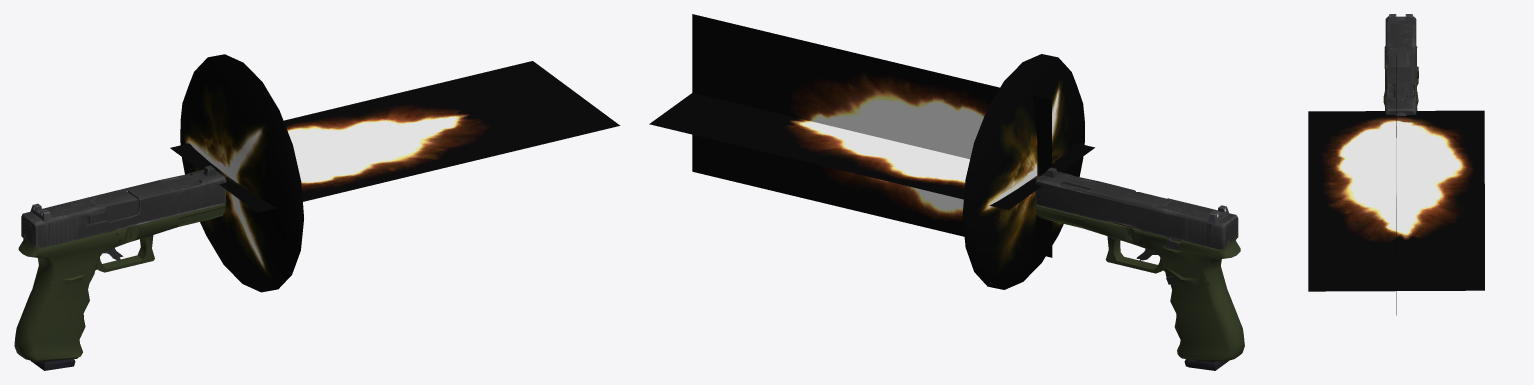
Rendered from Glock_1.glb.
3 renders of one model, left to right at view 1: azimuth 30°, elevation 25°; view 2: azimuth 150°, elevation 25°; view 3: azimuth 270°, elevation 25°, orthographic.
Parts seen in each view (by area): view 1: MuzzleFlash, Glock_Decimated; view 2: MuzzleFlash, Glock_Decimated; view 3: MuzzleFlash, Glock_Decimated.
Boxes of the visible parts, bbox=[...] form: MuzzleFlash: bbox=[170, 54, 620, 292]; Glock_Decimated: bbox=[14, 165, 226, 370]; MuzzleFlash: bbox=[649, 14, 1094, 289]; Glock_Decimated: bbox=[1035, 167, 1244, 370]; MuzzleFlash: bbox=[1308, 54, 1484, 315]; Glock_Decimated: bbox=[1383, 14, 1418, 115].
Bounding box in the file's own units: 0.6564 × 0.291 × 0.2492.
Materials: 2 (2 with a texture image).
